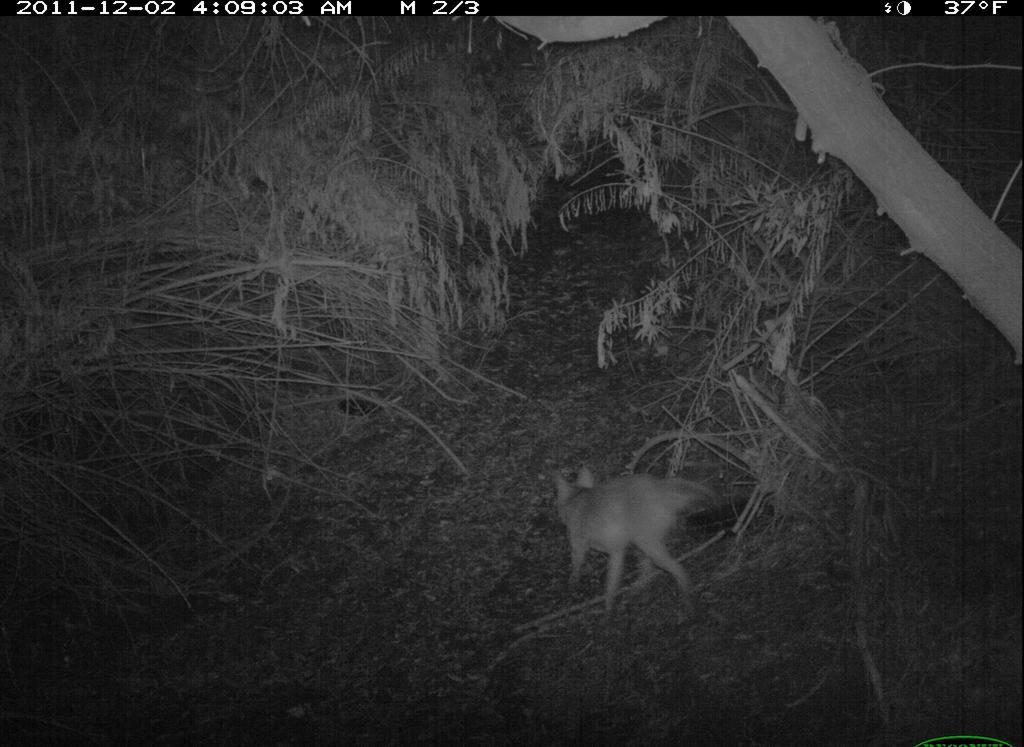coyote: (545, 446, 716, 621)
